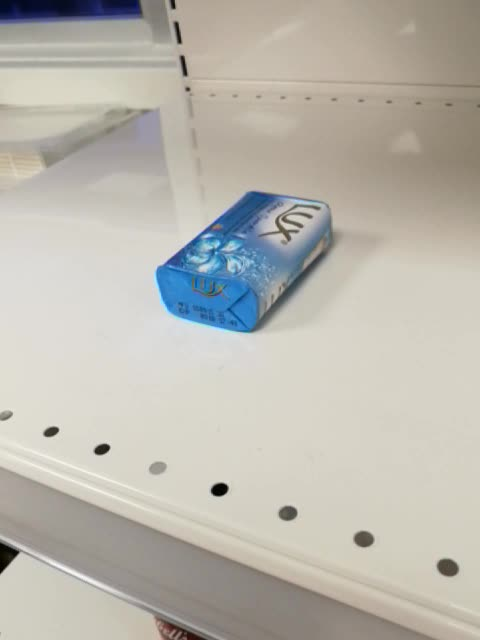soap: (155, 189, 336, 334)
